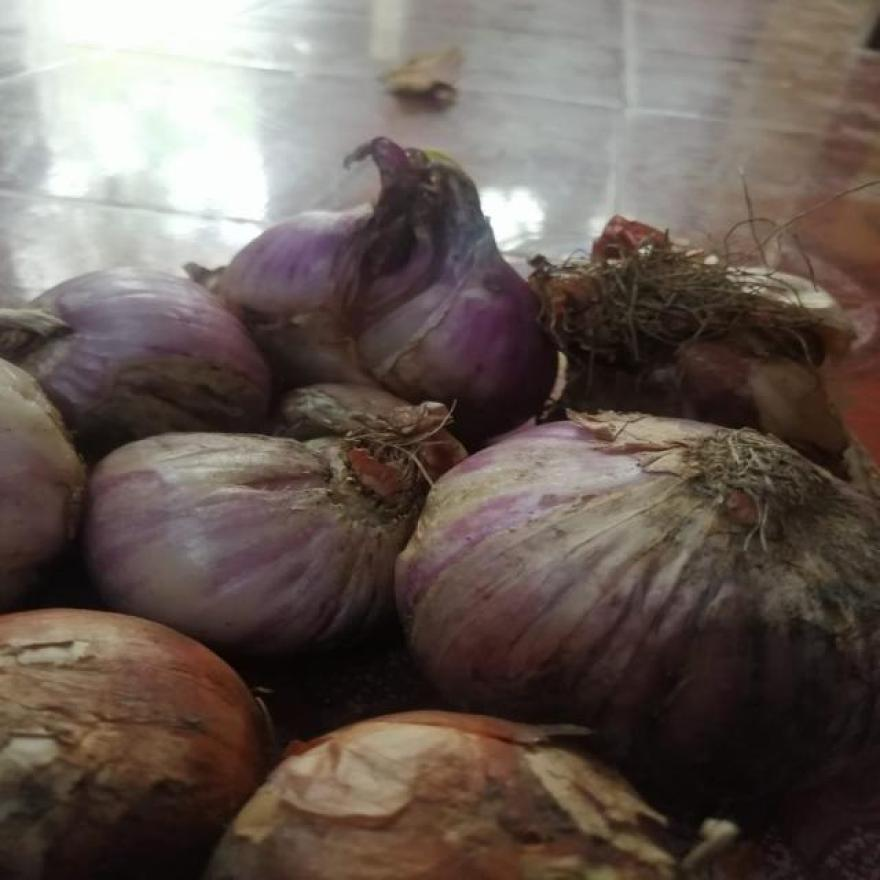Rotten: (369, 151, 492, 347), (794, 492, 874, 656), (218, 397, 380, 442)
